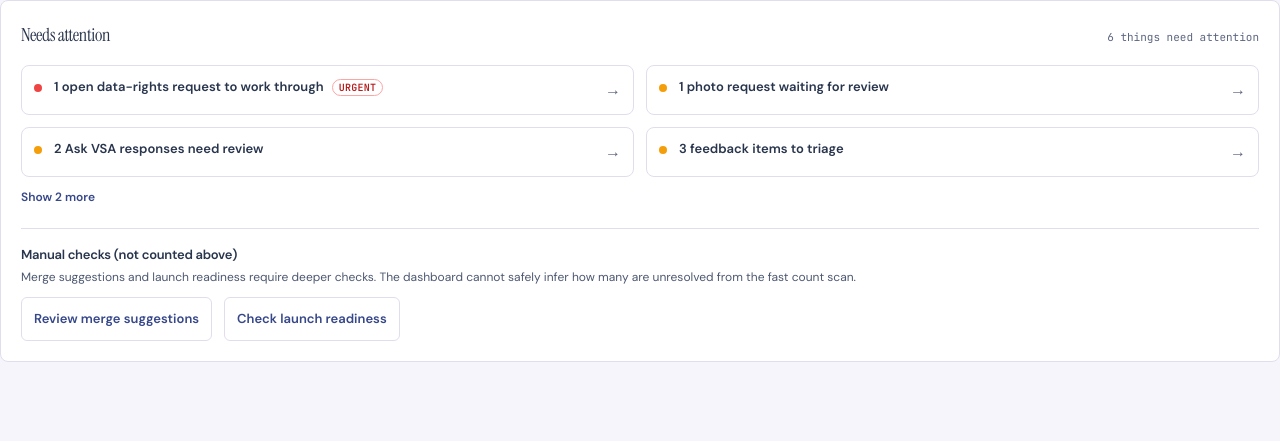
AttentionQueue › compact view › shows the first few items, urgent ones first, and reveals the rest on request
Expected: the link that starts with "open data-rights request to work through" is shown, [21,65,634,115]
Expected: the link that starts with "open data-rights request to work through" shows "Urgent", [21,65,634,115]
Click the button "Show 2 more": click(58, 197) [21,189,95,205]
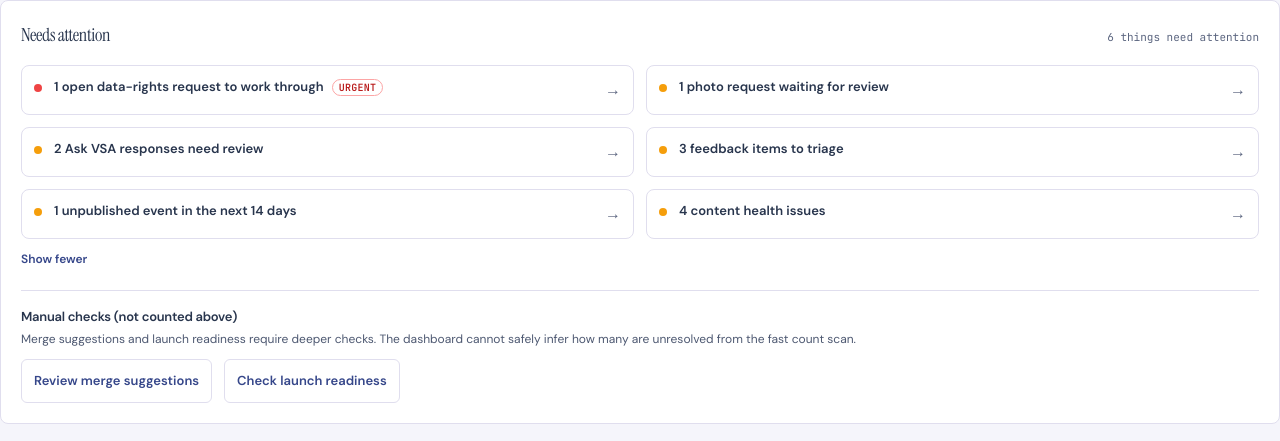
Result: the button "Show fewer" is expanded at [21,251,87,267]
